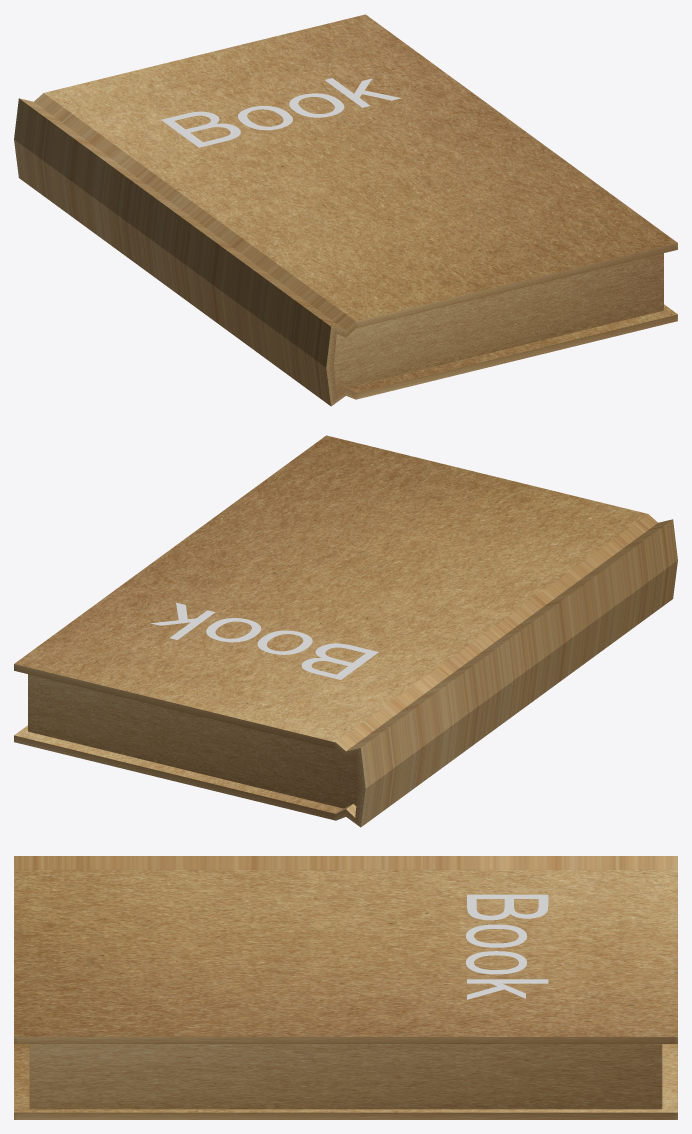
The model's file is book.FBX.
3 views of the same model, one above another, from view 1: azimuth 30°, elevation 25°; view 2: azimuth 150°, elevation 25°; view 3: azimuth 270°, elevation 25° (orthographic). The views are drawn at different scales.
Parts seen in each view (by area): view 1: Box002, TextPlus001; view 2: Box002, TextPlus001; view 3: Box002, TextPlus001.
Part boxes in pixels (x1=…): Box002: x1=14, y1=14, x2=677, y2=406; TextPlus001: x1=161, y1=78, x2=401, y2=147; Box002: x1=14, y1=435, x2=677, y2=827; TextPlus001: x1=151, y1=602, x2=378, y2=679; Box002: x1=14, y1=856, x2=677, y2=1119; TextPlus001: x1=466, y1=894, x2=548, y2=999.
Size of the model in its own units: 27.31 by 6.16 by 42.
